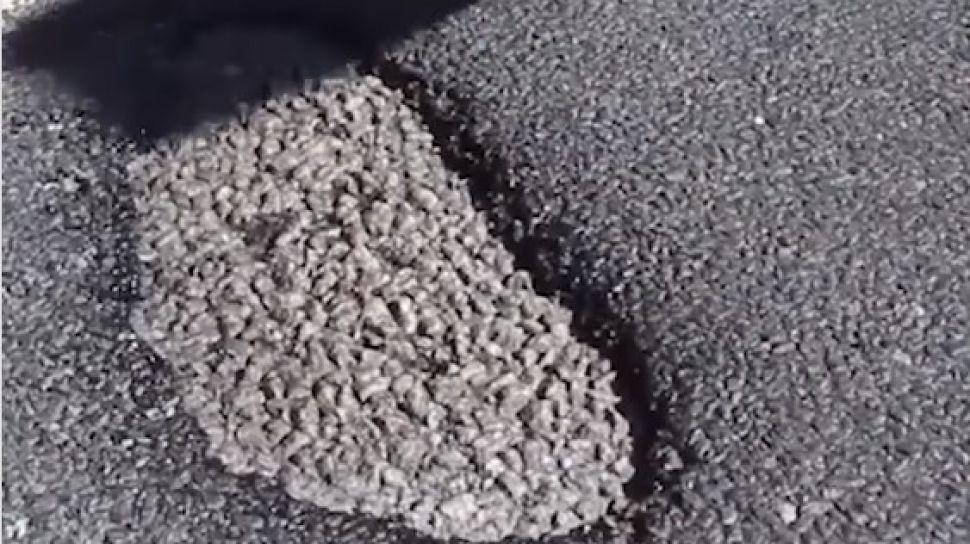Pothole: (65, 0, 672, 544)
